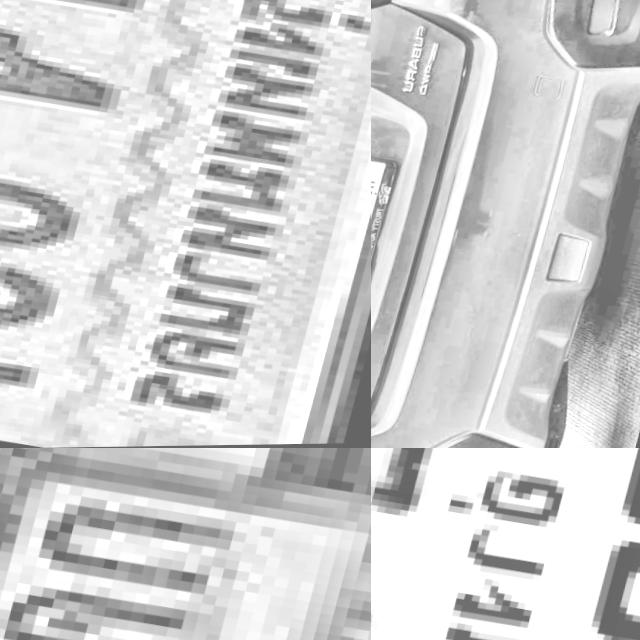license-plate: (0, 0, 371, 448), (0, 448, 371, 640), (371, 448, 640, 640), (371, 144, 409, 296)
